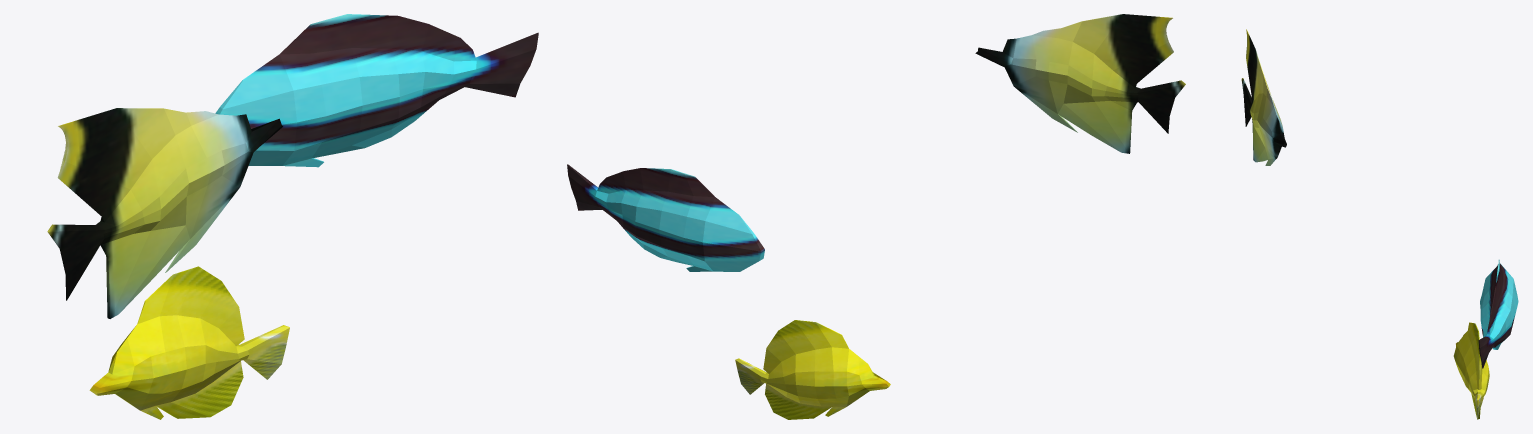
The picture shows the model from 3 angles, left to right: view 1: azimuth 30°, elevation 25°; view 2: azimuth 150°, elevation 25°; view 3: azimuth 270°, elevation 25°; orthographic projection. The views are drawn at different scales.
Parts seen in each view (by area): view 1: yu_1, yu_2_2, yu_2; view 2: yu_2_2, yu_1, yu_2; view 3: yu_2_2, yu_1, yu_2.
Part boxes in pixels (x1=…): yu_1: x1=215, y1=14, x2=538, y2=167; yu_2_2: x1=47, y1=108, x2=282, y2=318; yu_2: x1=89, y1=266, x2=289, y2=419; yu_2_2: x1=975, y1=14, x2=1185, y2=153; yu_1: x1=567, y1=164, x2=764, y2=271; yu_2: x1=735, y1=320, x2=890, y2=419; yu_2_2: x1=1241, y1=29, x2=1286, y2=165; yu_1: x1=1478, y1=259, x2=1518, y2=368; yu_2: x1=1453, y1=322, x2=1489, y2=419.
Bounding box in the file's own units: 910 × 628 × 542.
3 materials, 3 textured.
